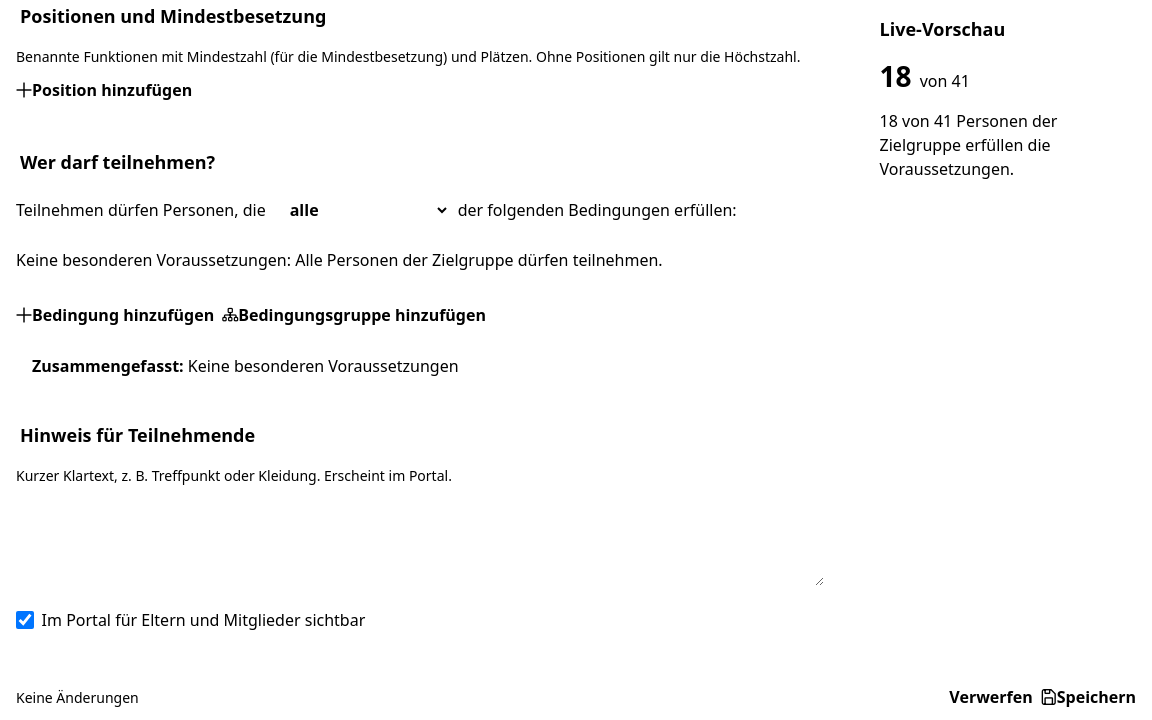
Scenario: ParticipationSettings › shows the live preview count and enables saving only with changes
The image size is (1152, 720).
(page scrolled)
Expected: the button "Speichern" is disabled, [1041,686,1136,708]
Type "Treffpunkt 17:30" into the text box at (420, 542), box [16,498,824,586]
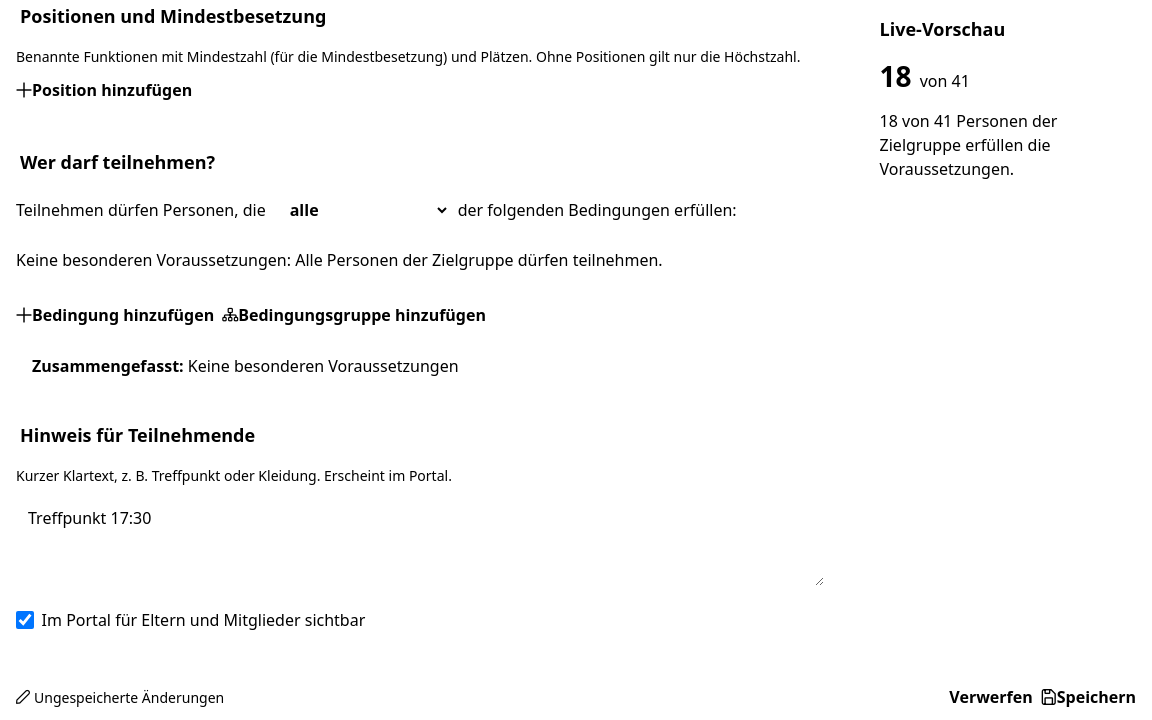
Expected: the button "Speichern" is enabled, [1041,686,1136,708]
Expected: the text "Ungespeicherte Änderungen" is shown, [16,686,224,708]
